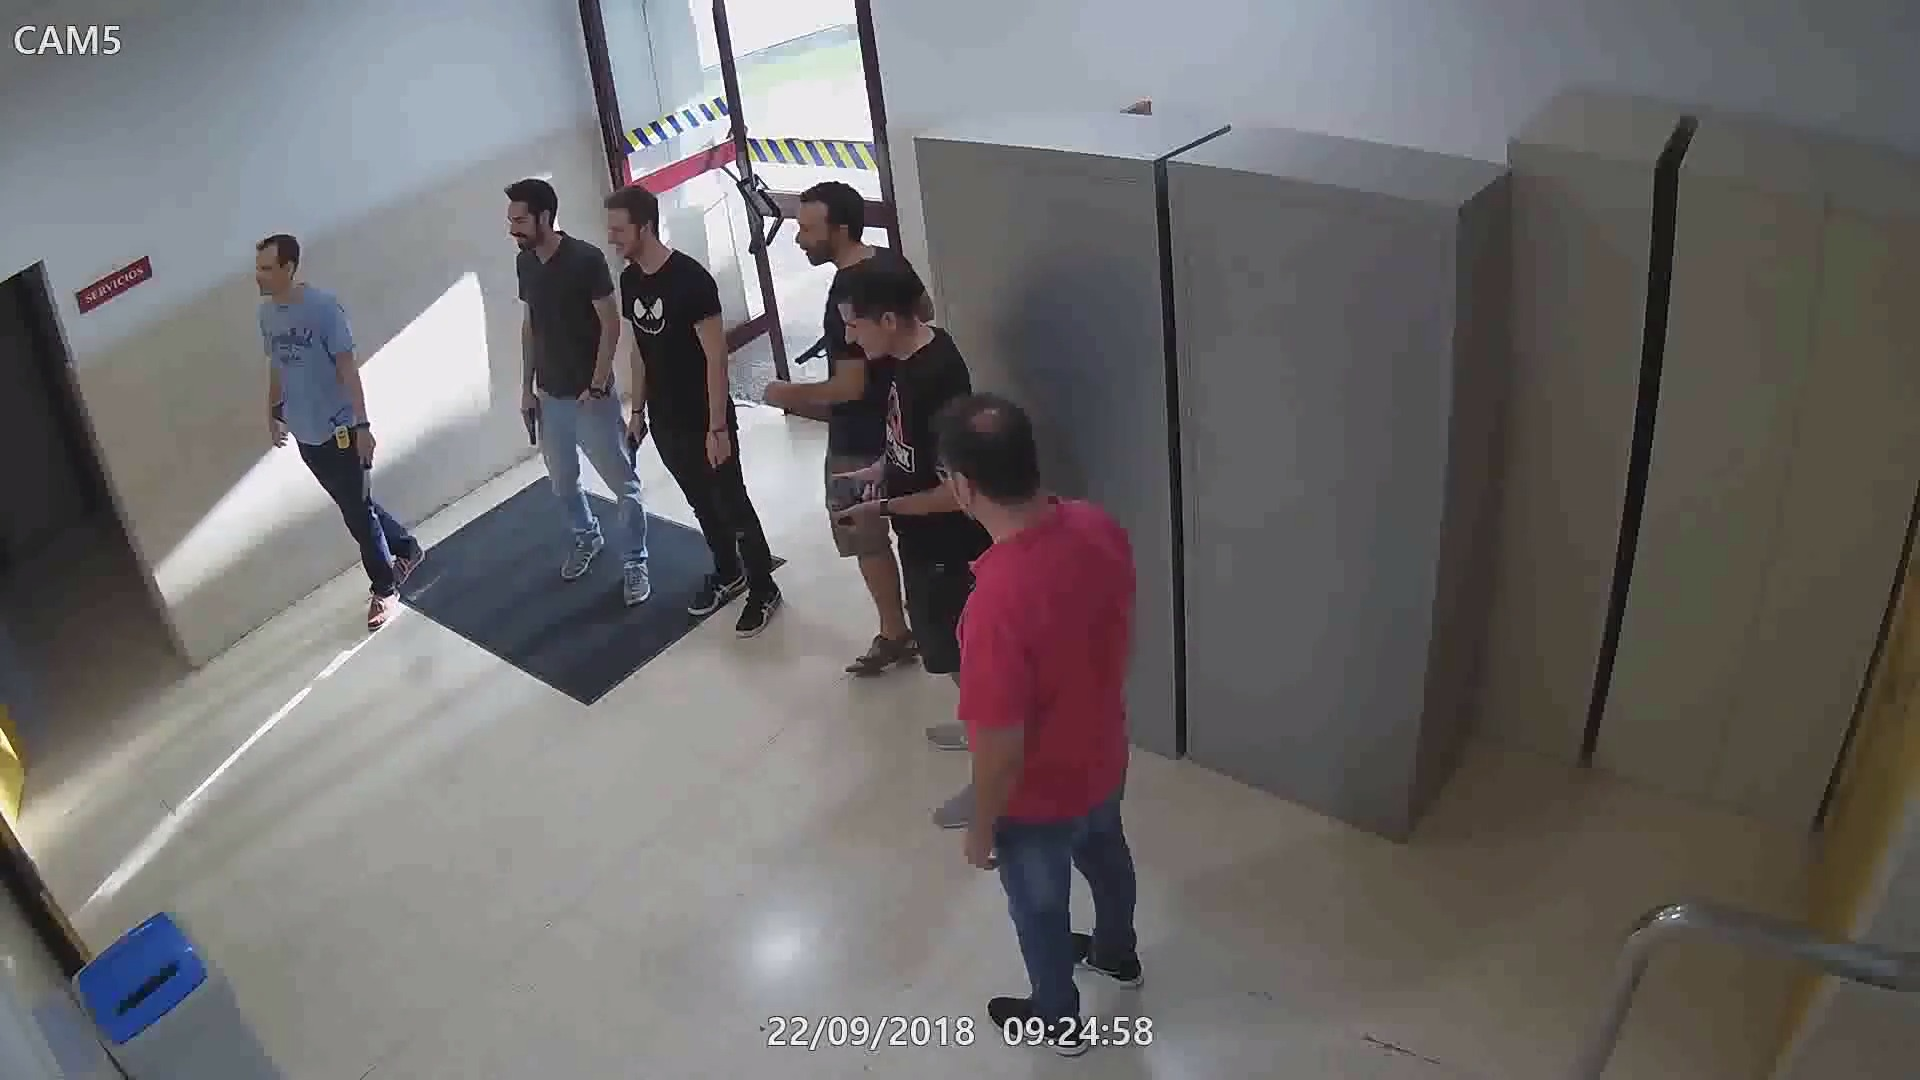Handgun: (829, 469, 893, 543), (621, 411, 651, 483), (516, 388, 549, 450), (796, 328, 829, 368), (266, 392, 291, 430)
Knife: (351, 417, 375, 512)
